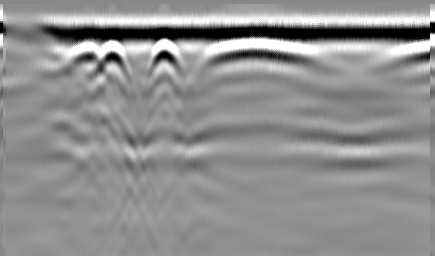pipe: (4, 18, 52, 40)
steel: (209, 41, 309, 65), (72, 41, 126, 65), (149, 39, 177, 67)
